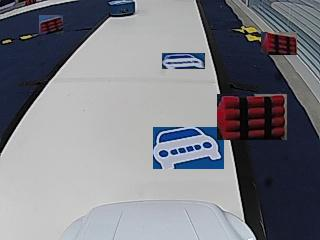prop: (109, 1, 135, 17)
